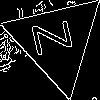Z: (31, 16, 83, 56)
